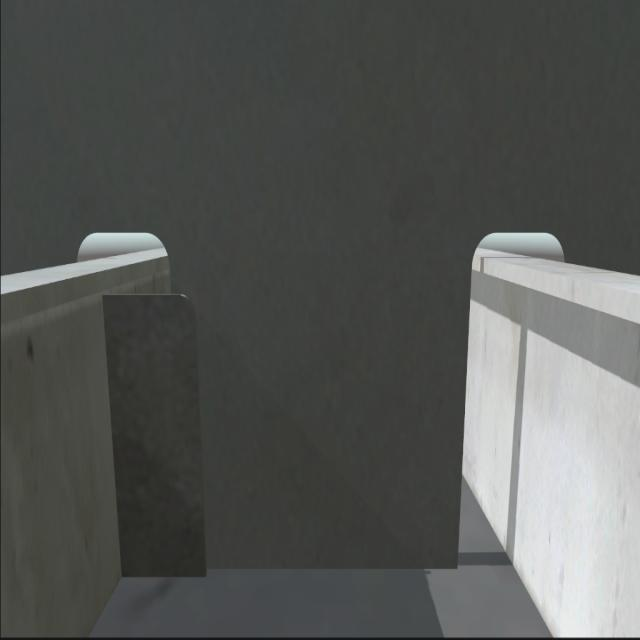fillet_yong_jeop_jang: (127, 554, 462, 586)
longi_yong_jeop_jang: (98, 290, 130, 586)
plate_CP05: (101, 291, 202, 582)
